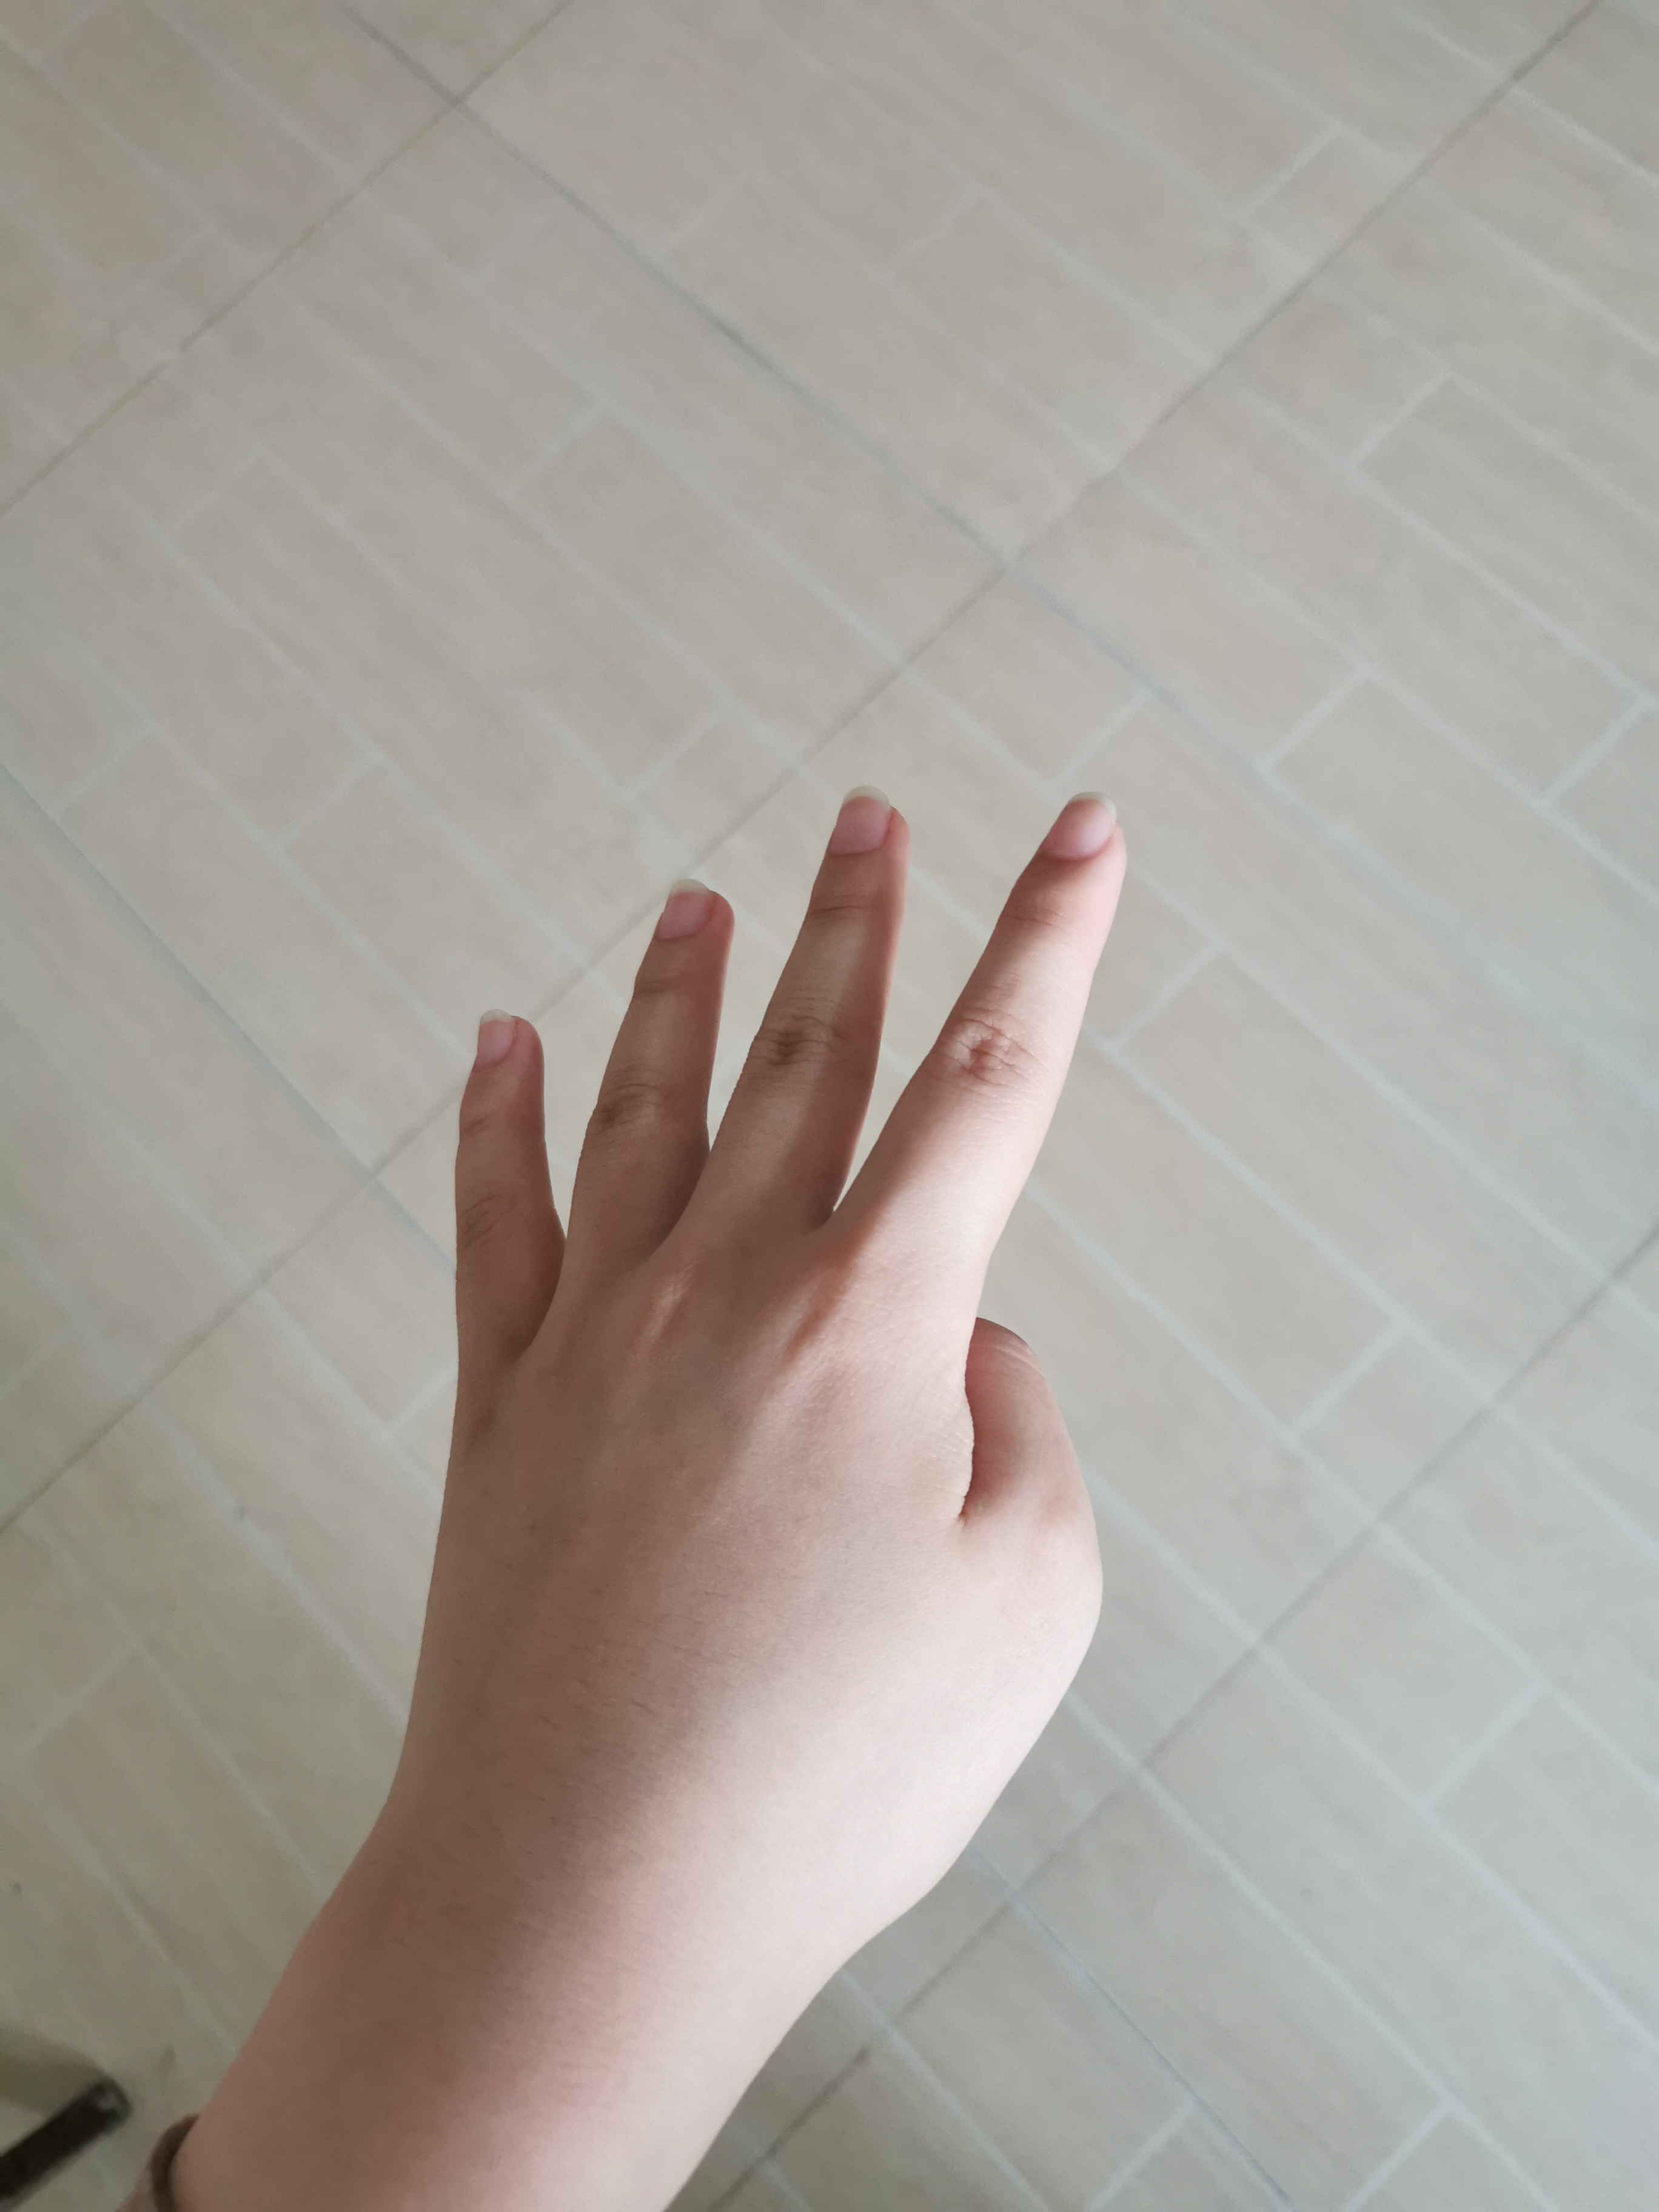right: (387, 784, 1166, 1902)
